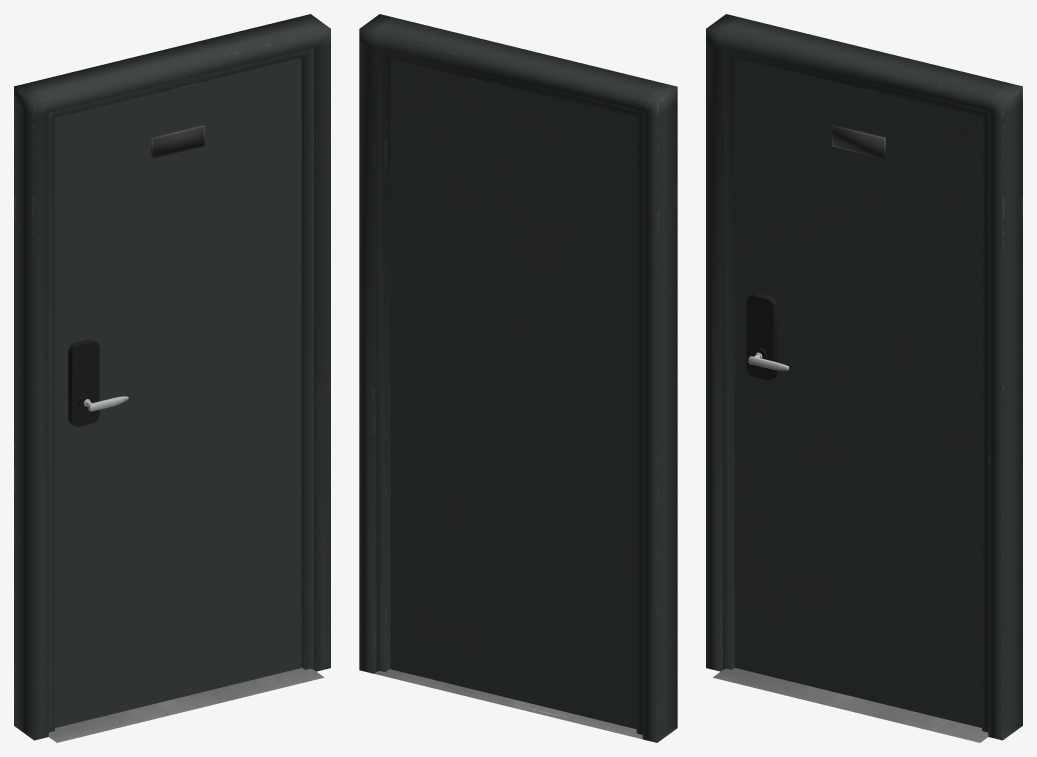
File: Door_wakeupCenterIn_low.fbx
The picture shows the model from 3 angles, left to right: view 1: azimuth 30°, elevation 25°; view 2: azimuth 150°, elevation 25°; view 3: azimuth 330°, elevation 25°; orthographic projection.
Parts seen in each view (by area): view 1: DoorLocked, DoorFrame; view 2: DoorLocked, DoorFrame; view 3: DoorLocked, DoorFrame.
Part boxes in pixels (x1,y1,x2,y2): DoorLocked: [55, 57, 301, 727]; DoorFrame: [14, 14, 330, 742]; DoorLocked: [390, 58, 636, 729]; DoorFrame: [359, 14, 677, 742]; DoorLocked: [734, 57, 981, 727]; DoorFrame: [706, 14, 1022, 742].
Bounding box in the file's own units: 1.02 × 2.1 × 0.1689.
